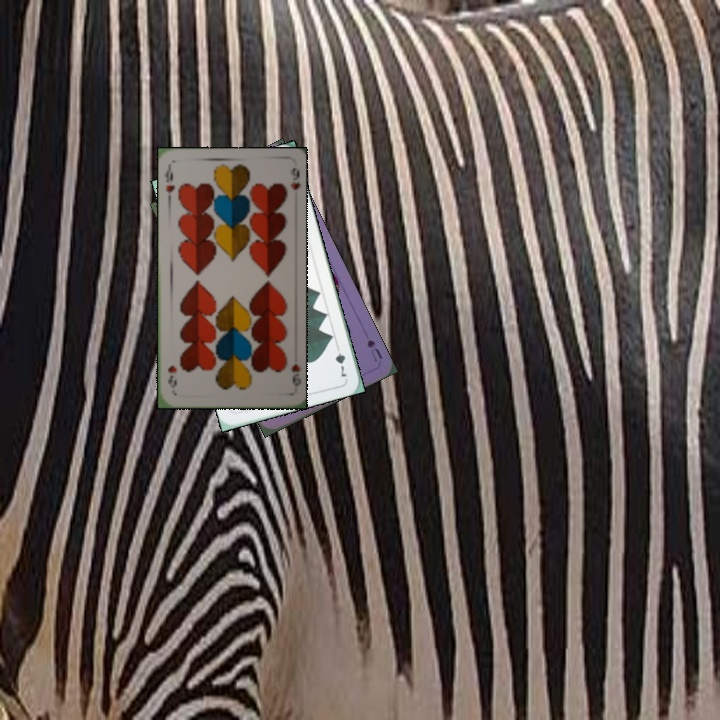G7: (331, 340, 350, 381)
H9: (161, 163, 177, 203), (286, 360, 301, 389)
SU: (363, 335, 385, 364)
